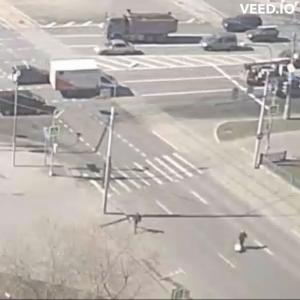car: (50, 55, 127, 103), (107, 15, 183, 47), (1, 90, 53, 117), (12, 63, 52, 88), (200, 33, 243, 55), (95, 40, 138, 58), (245, 26, 282, 44), (223, 15, 264, 31)
